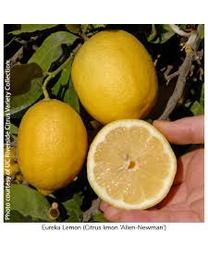lemon: (87, 119, 180, 212), (71, 31, 160, 126), (17, 98, 88, 195)
